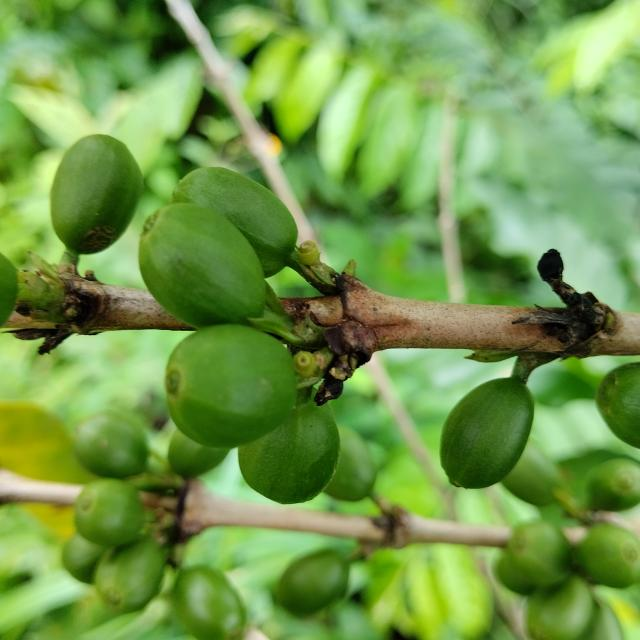green: (165, 324, 297, 448), (138, 203, 266, 328), (171, 167, 298, 277), (238, 388, 340, 505), (49, 134, 142, 255), (441, 377, 535, 489), (597, 363, 640, 449)
